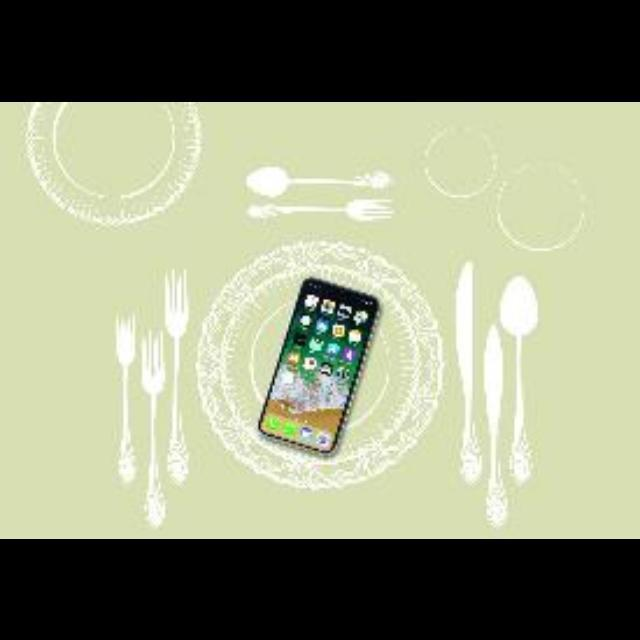phone: (250, 263, 394, 471)
